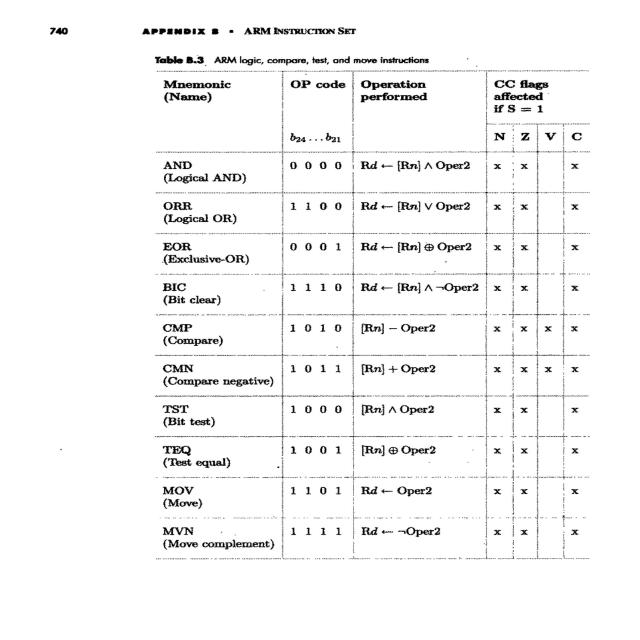diagram: (103, 38, 640, 564)
